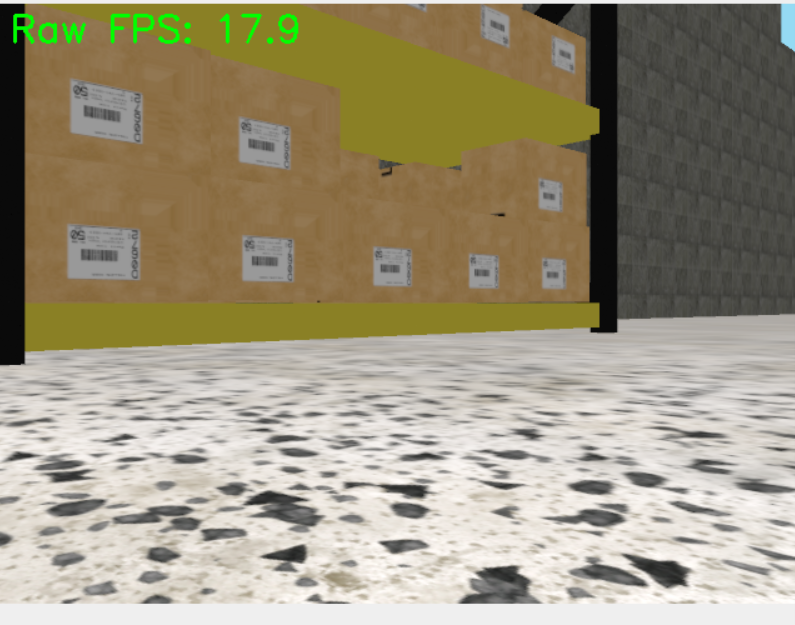barcode: (68, 79, 145, 145), (65, 223, 142, 283), (238, 116, 292, 171), (241, 233, 295, 284), (371, 247, 413, 289), (480, 5, 512, 48), (468, 253, 500, 289), (551, 36, 577, 74), (537, 177, 563, 212), (541, 257, 568, 289)
